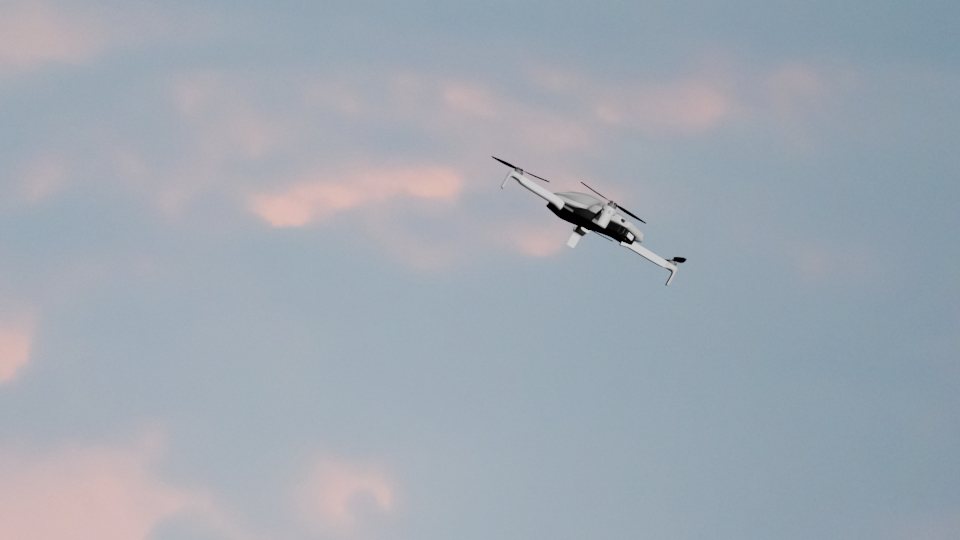drone: (490, 154, 687, 284)
